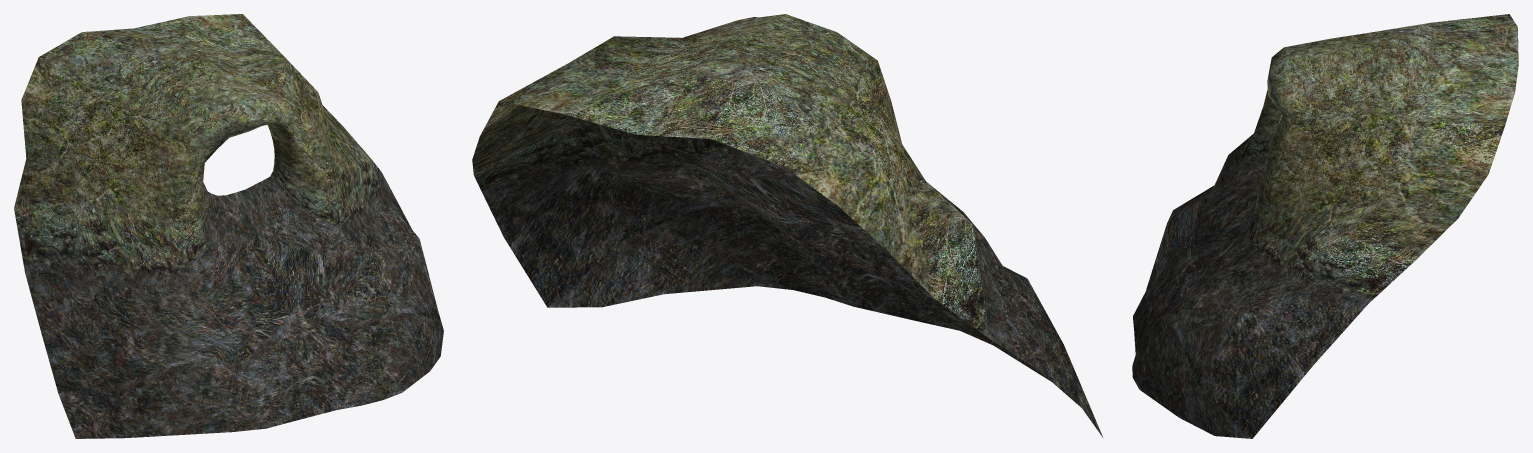
File: thm_all_cave_s02_damprock_r0_mesh_l2.fbx
The picture shows the model from 3 angles, left to right: view 1: azimuth 30°, elevation 25°; view 2: azimuth 150°, elevation 25°; view 3: azimuth 270°, elevation 25°; orthographic projection. The views are drawn at different scales.
Parts seen in each view (by area): view 1: mesh_node; view 2: mesh_node; view 3: mesh_node.
Boxes of the visible parts, x1,y1,x2,y2 form: mesh_node: [14, 14, 443, 438]; mesh_node: [472, 14, 1102, 437]; mesh_node: [1132, 14, 1518, 438].
Size of the model in its own units: 48.32 by 34.16 by 39.34.
